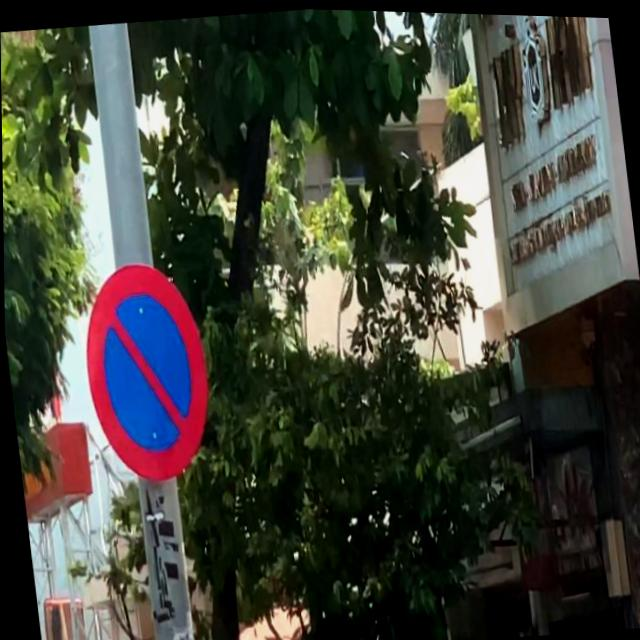Cam do xe: (72, 254, 218, 489)
